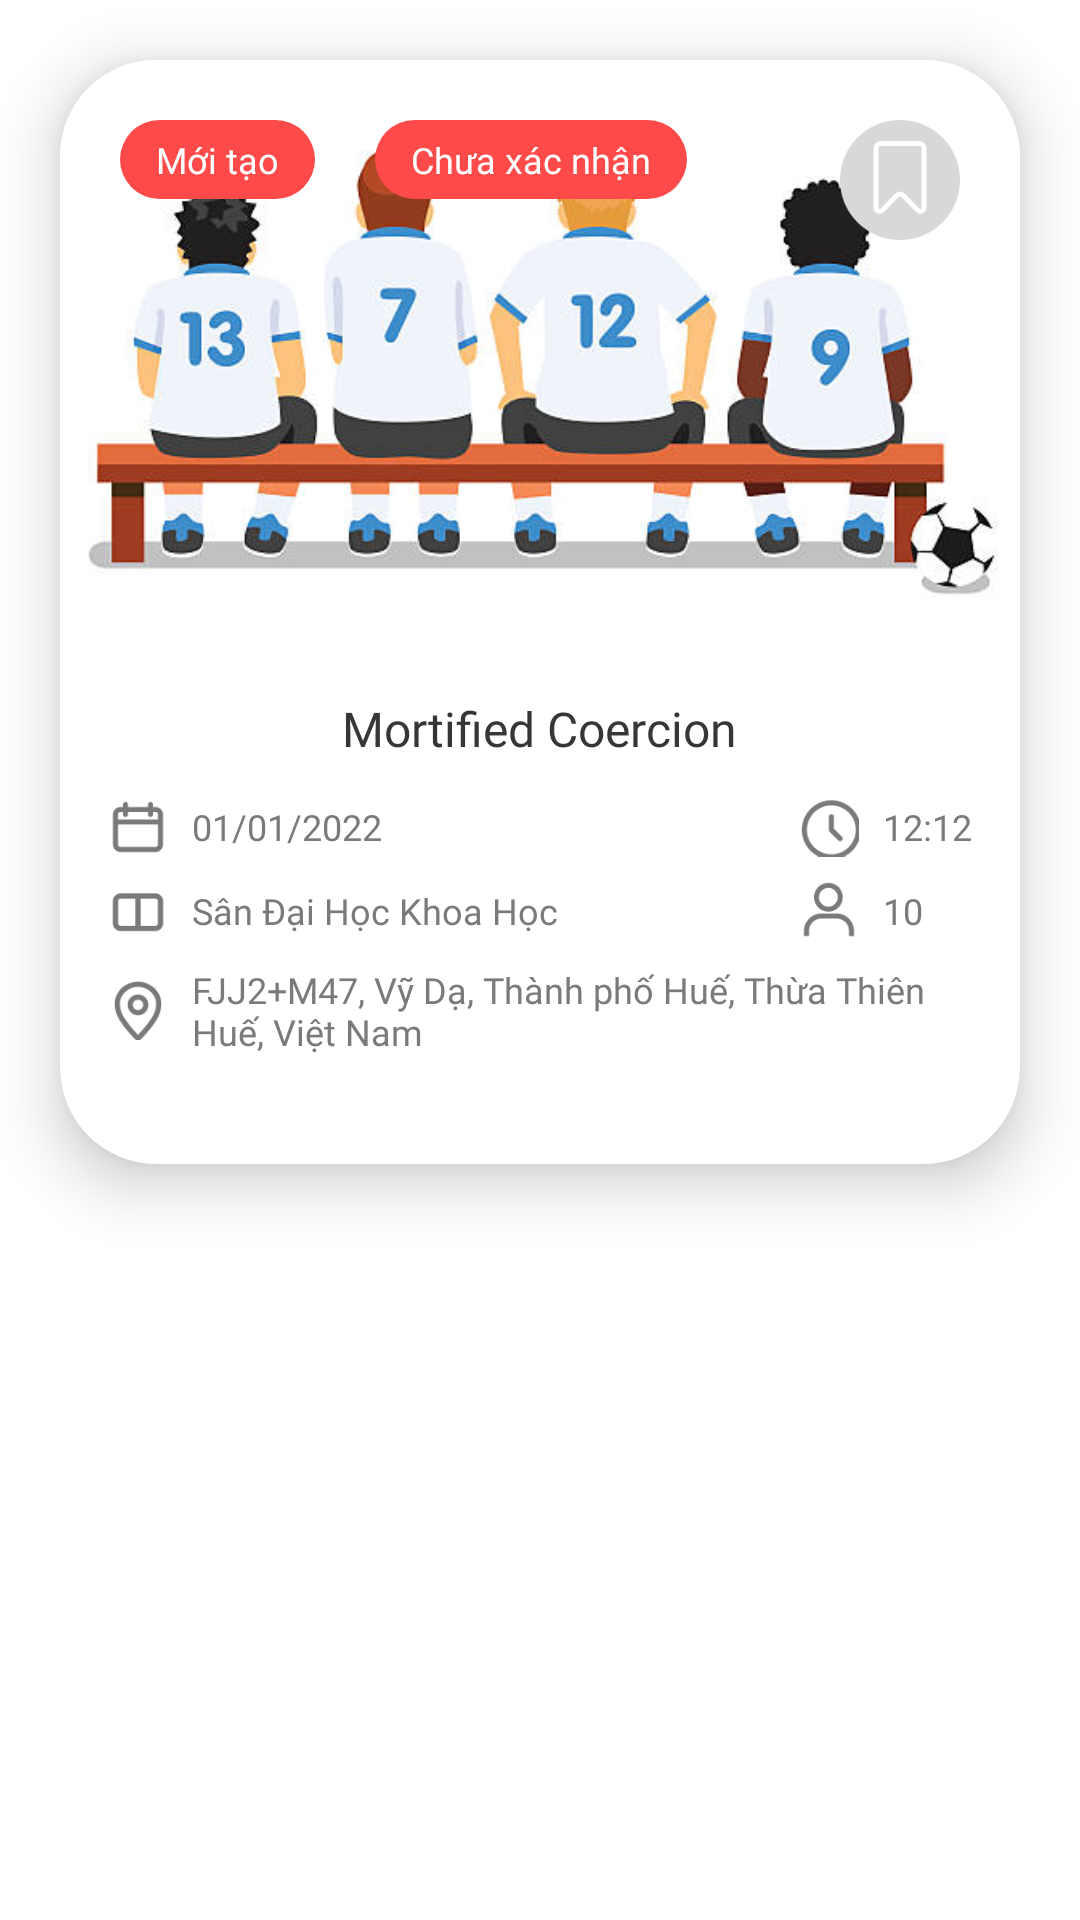

Where icons sit on this 1080×1920 app screen, as (x1, y1, x2, y2):
clock: (802, 800, 859, 857)
date: (112, 802, 164, 853)
hightligh: (840, 120, 960, 240)
user: (803, 883, 855, 937)
